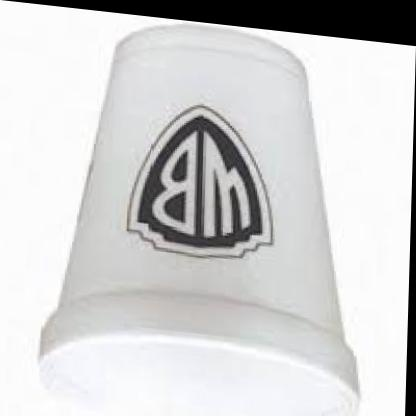trash: (40, 25, 357, 415)
